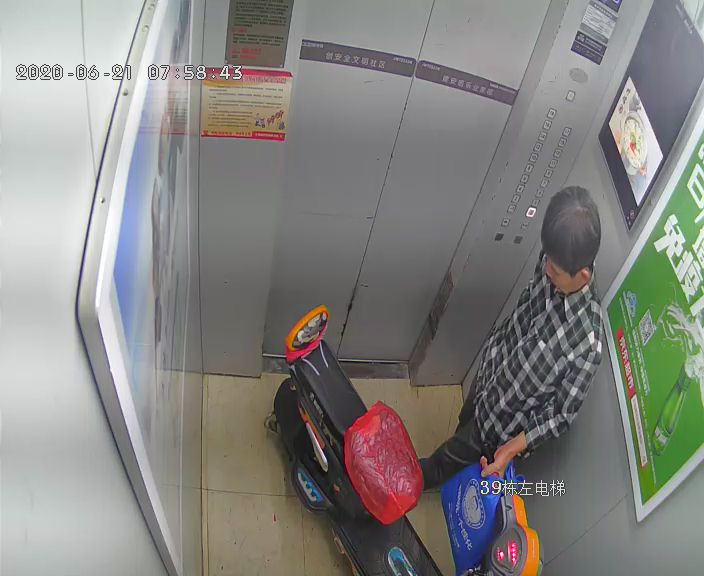Electric-bicycle: (278, 304, 538, 576)
